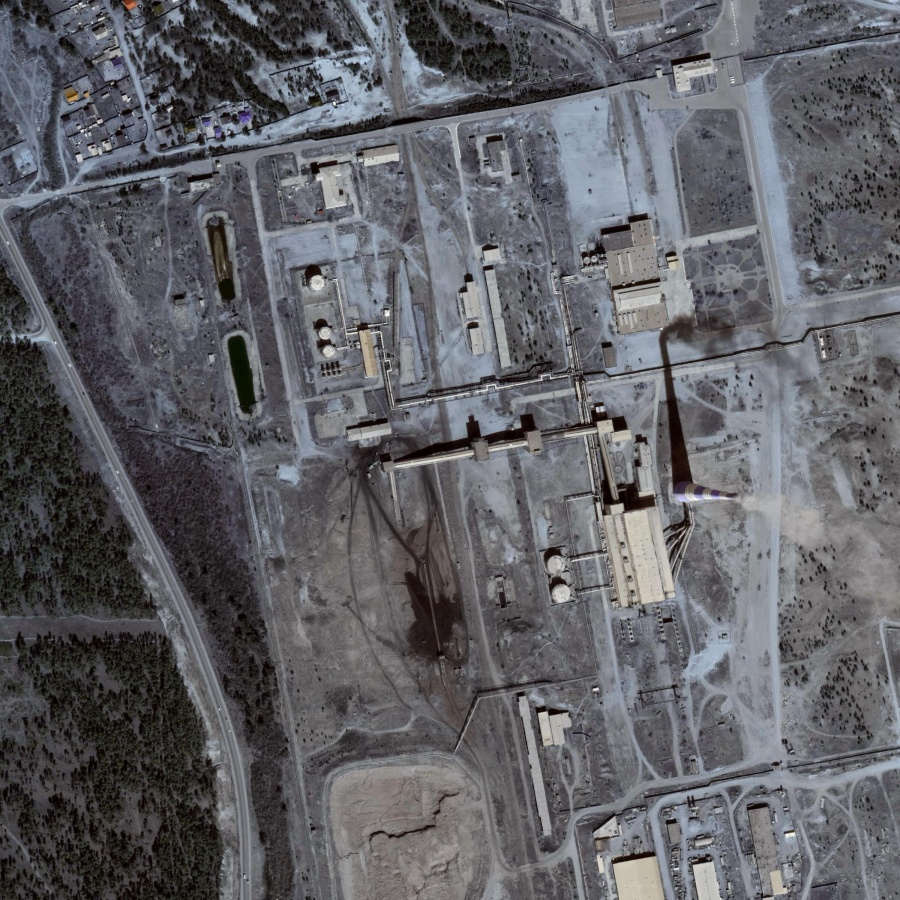PowerPlant: (284, 251, 762, 679)
